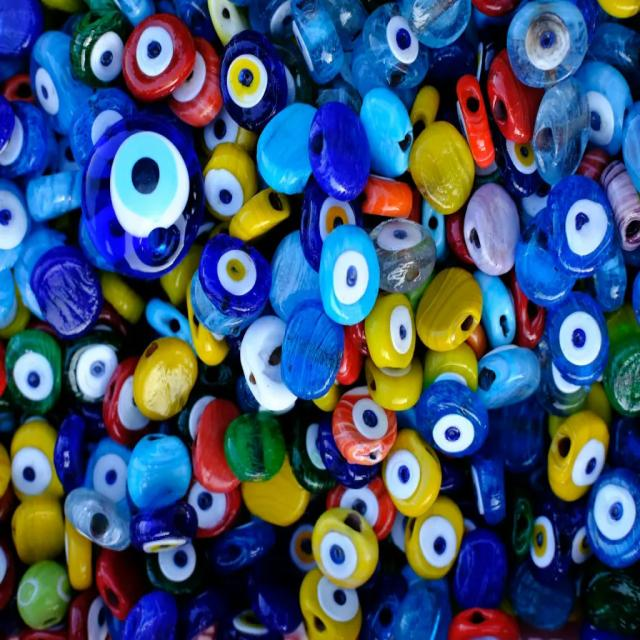Nazar-Boncugu: (81, 108, 207, 278), (322, 226, 381, 326), (552, 288, 610, 387)
